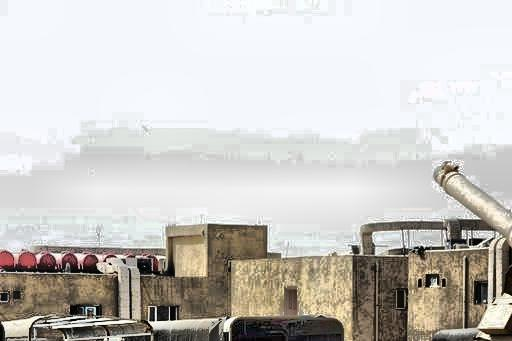tanks: (437, 165, 512, 247), (475, 268, 512, 341)
